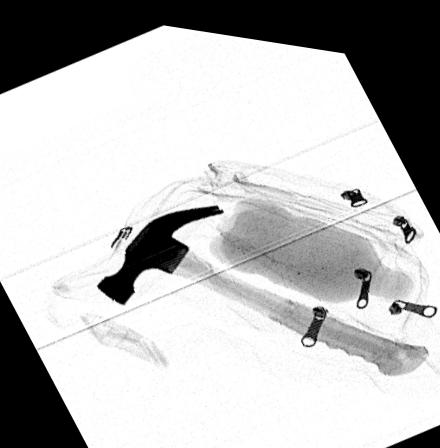Hammer: (93, 196, 429, 363)
